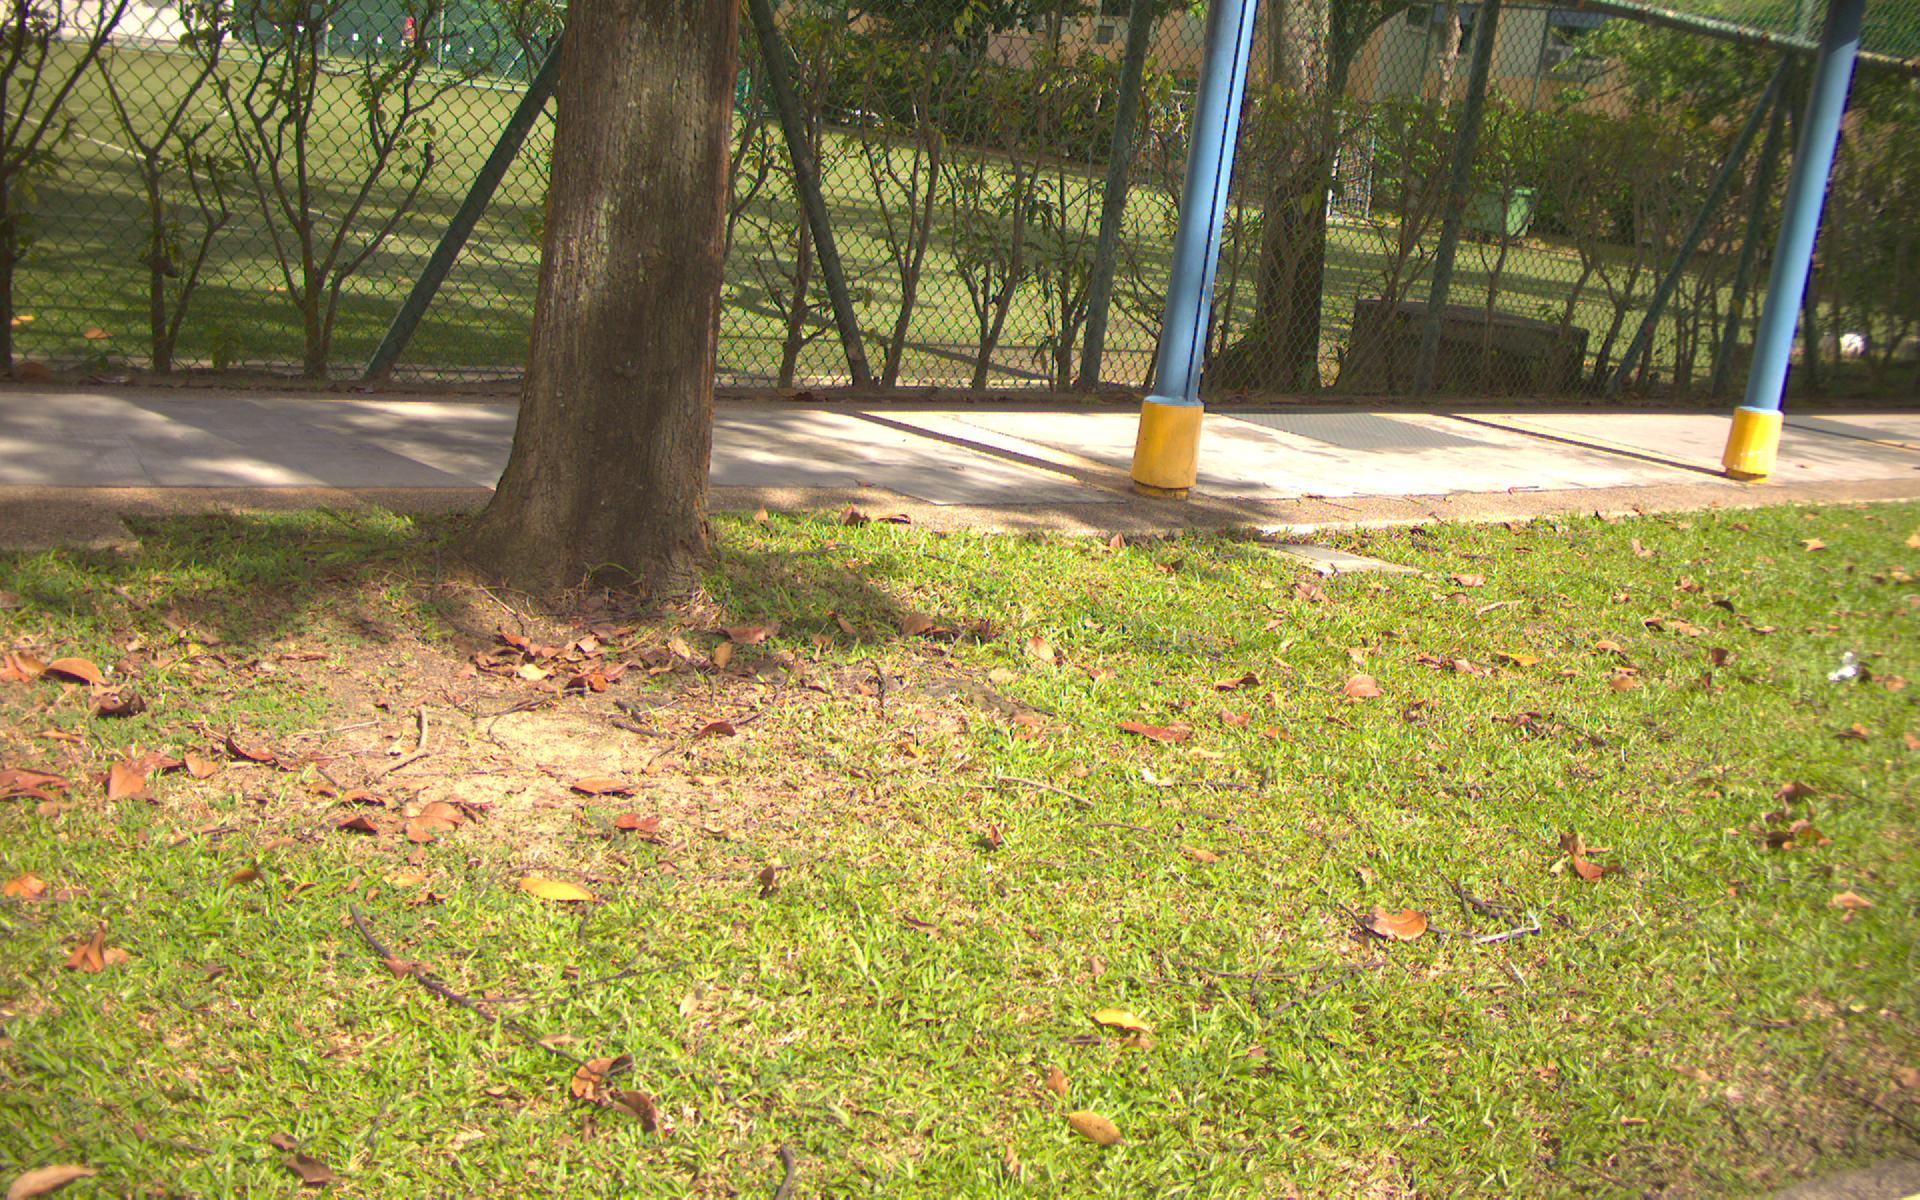pathway_low: (1, 386, 1920, 495)
road_turf_low: (21, 572, 1920, 1136)
